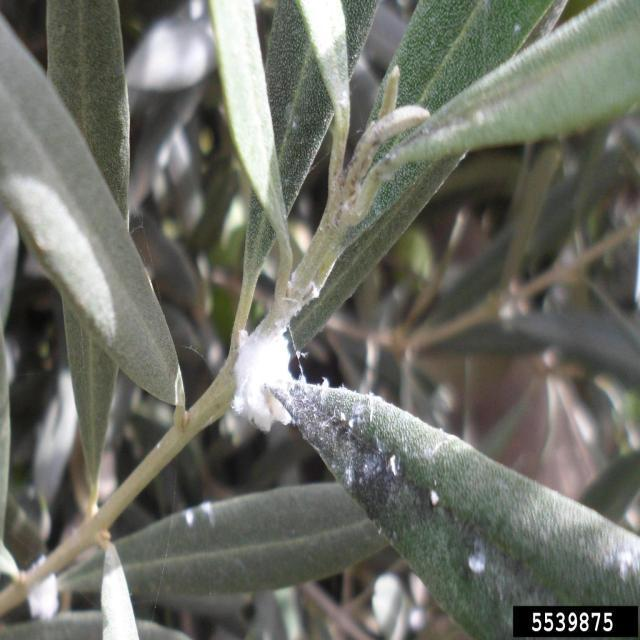Psyllid: (232, 265, 412, 540), (0, 170, 118, 348)
